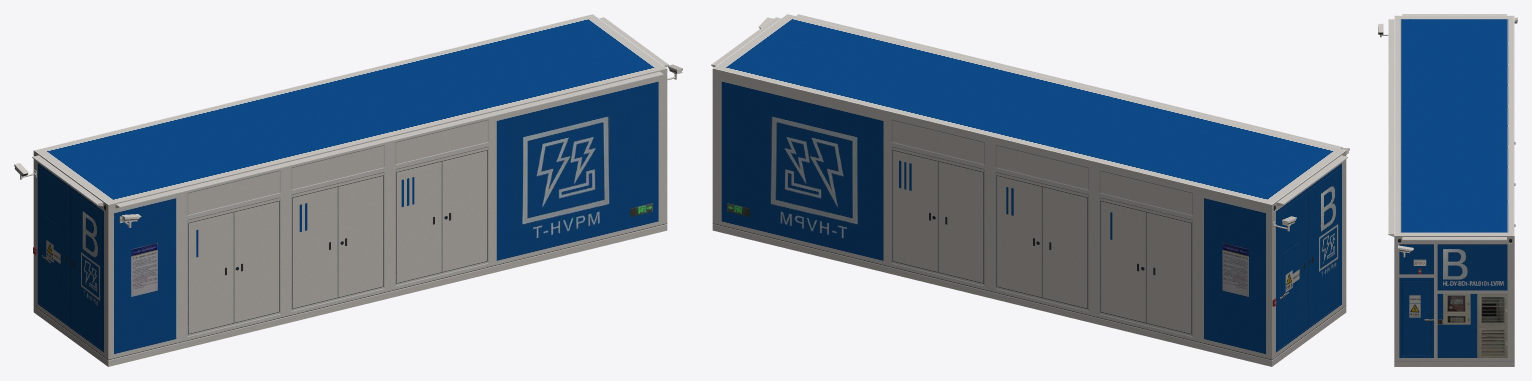
The model's file is HVPM.glb.
3 views of the same model, side by side, from view 1: azimuth 30°, elevation 25°; view 2: azimuth 150°, elevation 25°; view 3: azimuth 270°, elevation 25° (orthographic). The views are drawn at different scales.
Parts seen in each view (by area): view 1: polySurface6; view 2: polySurface6; view 3: polySurface6.
Boxes of the visible parts, x1=… form: polySurface6: x1=14, y1=14, x2=682, y2=366; polySurface6: x1=711, y1=14, x2=1349, y2=366; polySurface6: x1=1378, y1=14, x2=1517, y2=366.
Size of the model in its own units: 138 by 36 by 34.84.
Materials: 1 (1 with a texture image).
